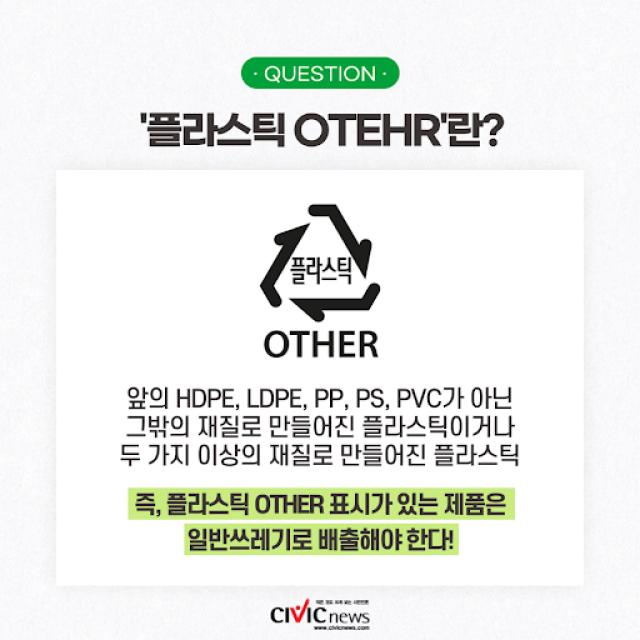Plastic: (256, 194, 387, 326)
